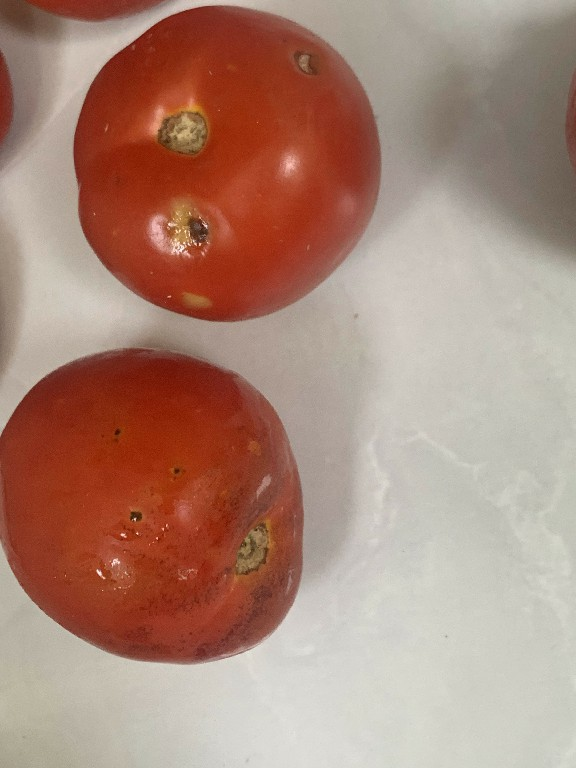NG: (47, 3, 396, 340), (0, 332, 320, 680)
